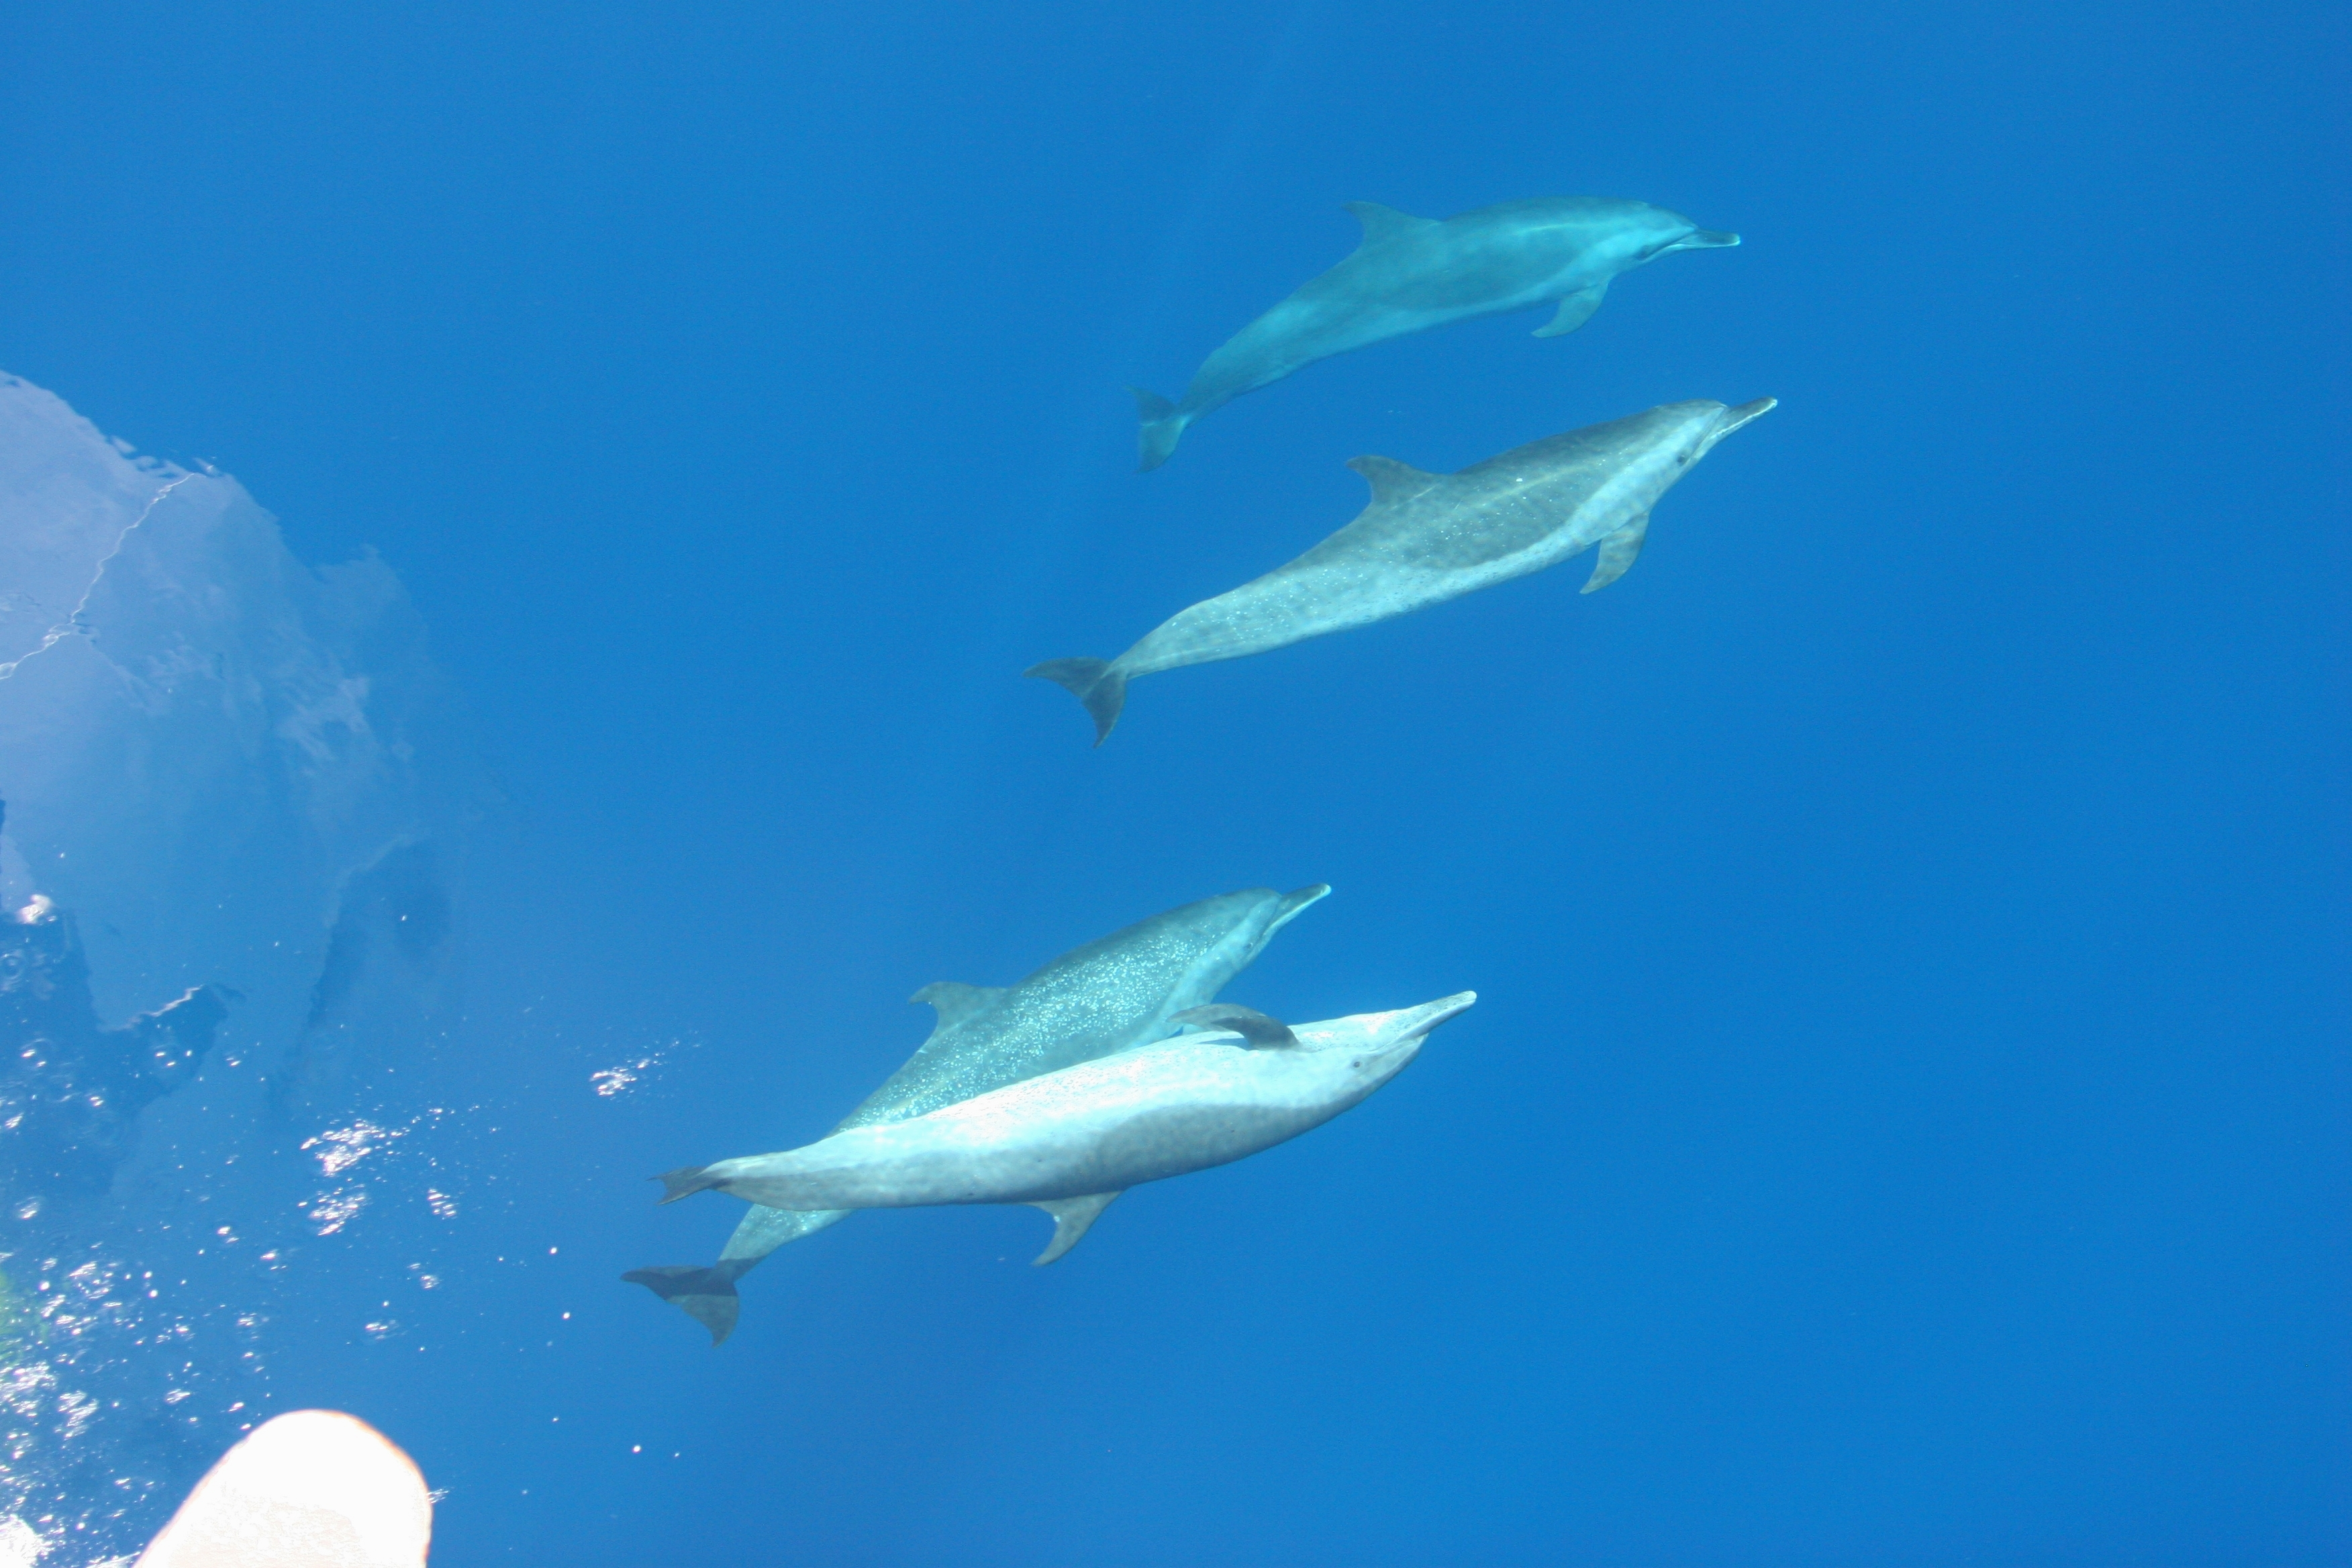dolphin: (625, 880, 1339, 1344), (1032, 387, 1783, 731), (660, 980, 1482, 1265), (1136, 180, 1754, 492)
